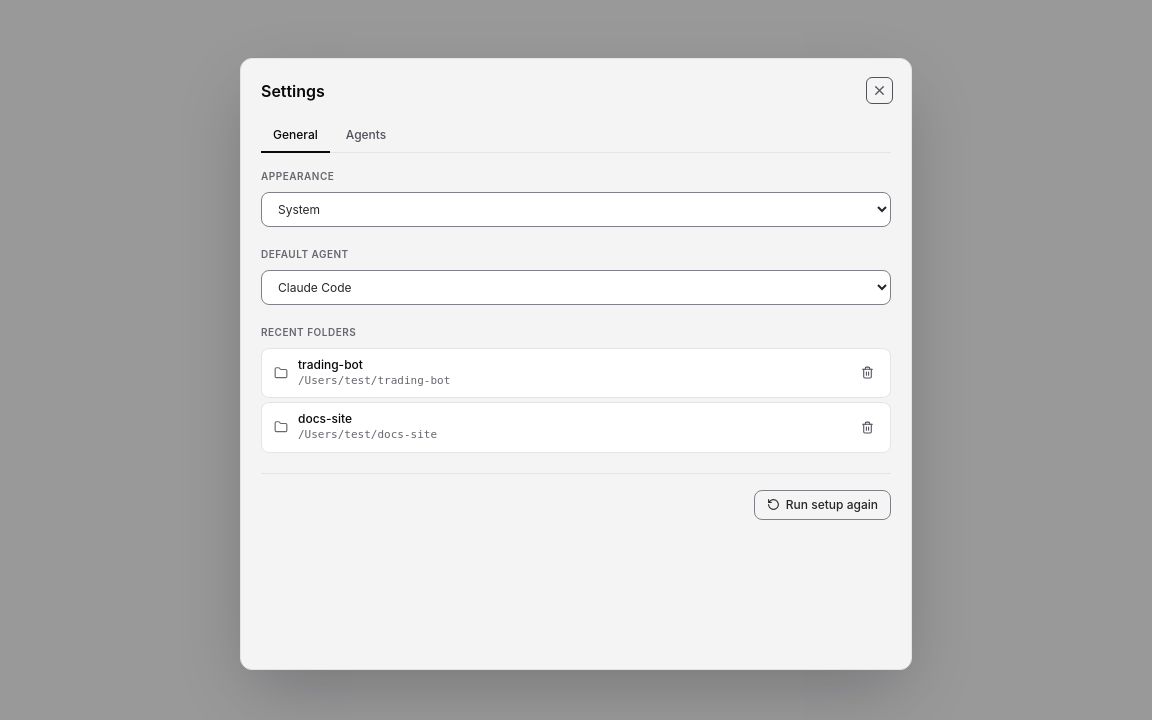
Scenario: SettingsPanel — tabs › switches to the catalog on a click
Click the tab "Agents".
click(366, 136)  # box [334,119,398,153]
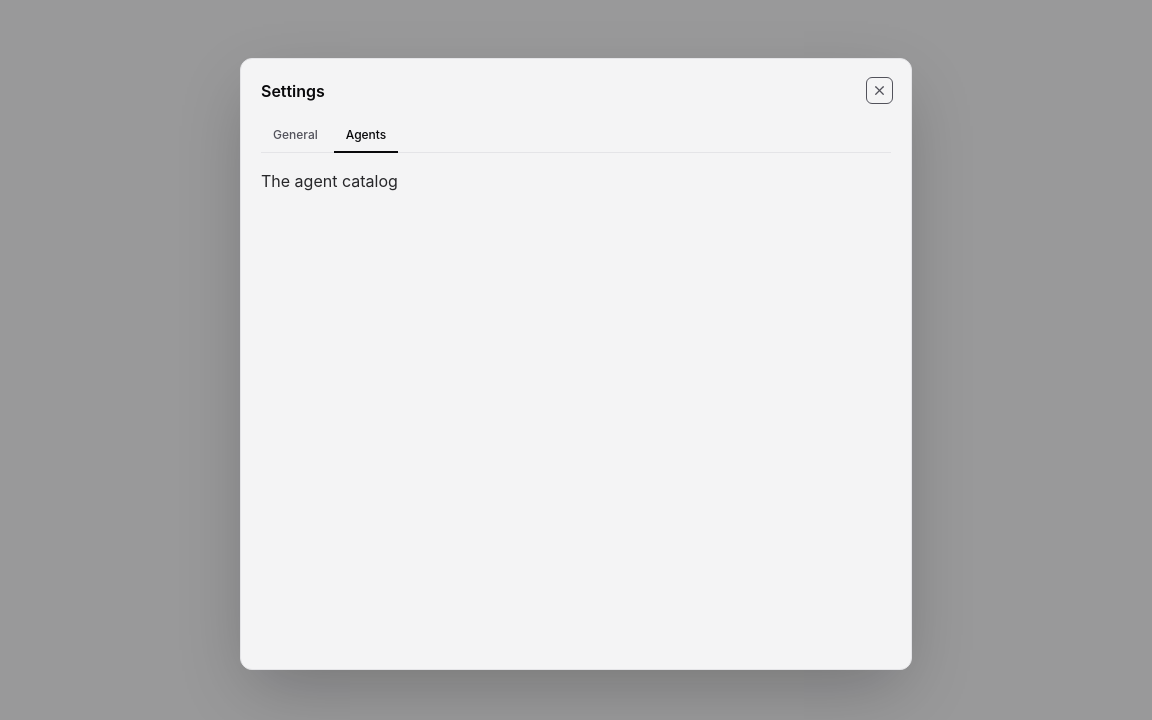
Result: the text "The agent catalog" is shown at [261,171,398,191]
Result: the label "Appearance" is gone
